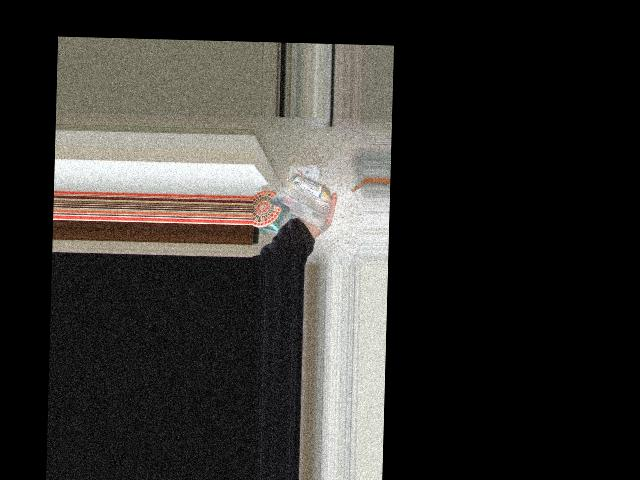cheese: (290, 158, 320, 222)
